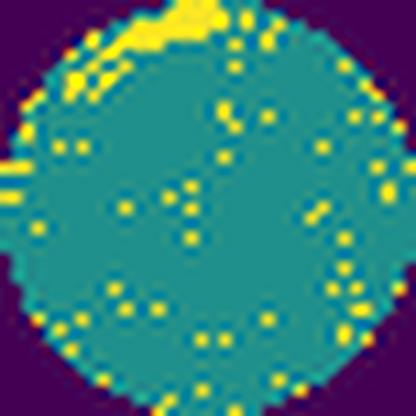Edge-Loc: (58, 0, 229, 107)
